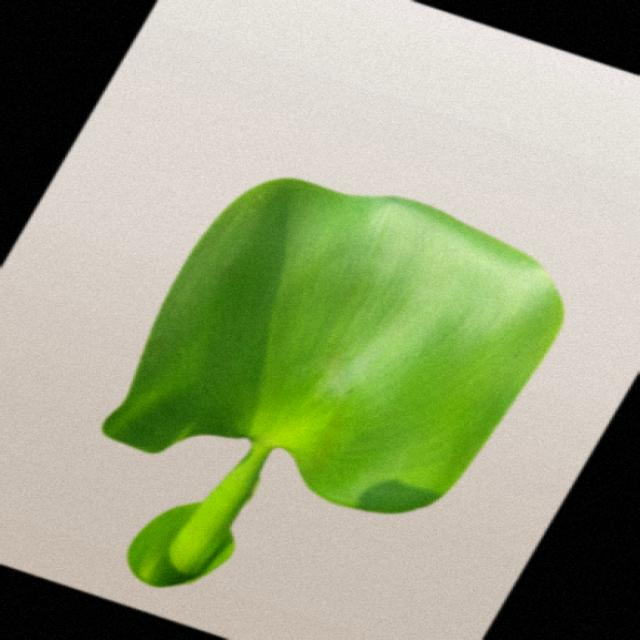daun sehat: (104, 179, 562, 586)
